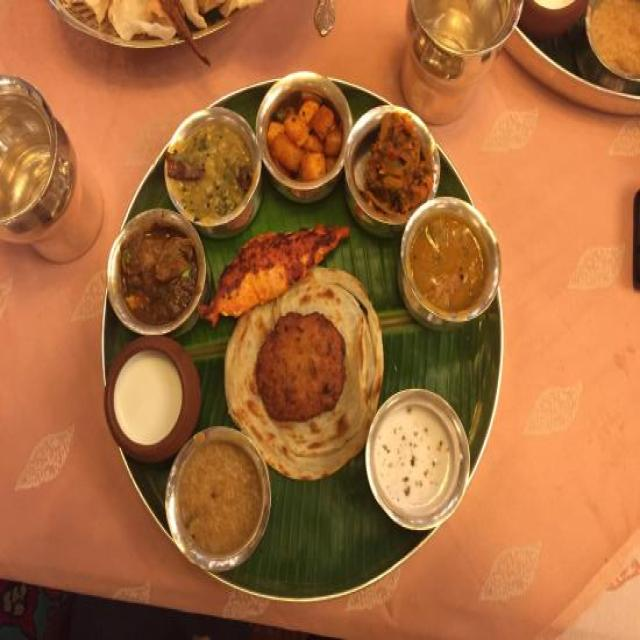non veg meals: (95, 59, 508, 596)
